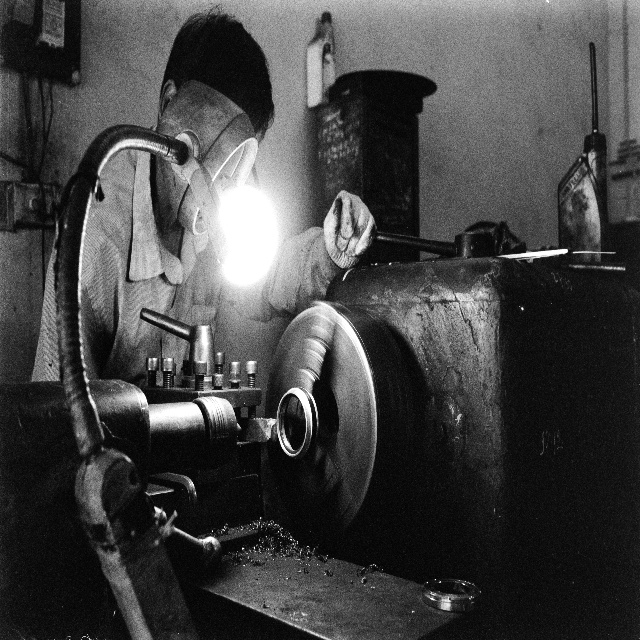Guantes: (322, 188, 378, 275)
